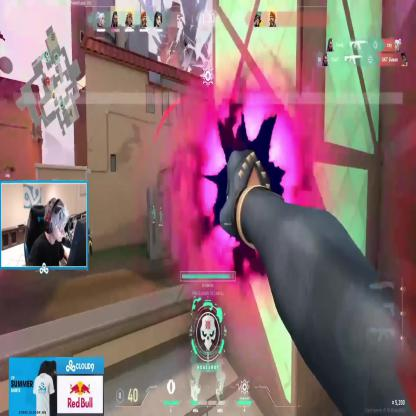enemy: (85, 224, 94, 256)
enemy_head: (86, 226, 90, 233)
